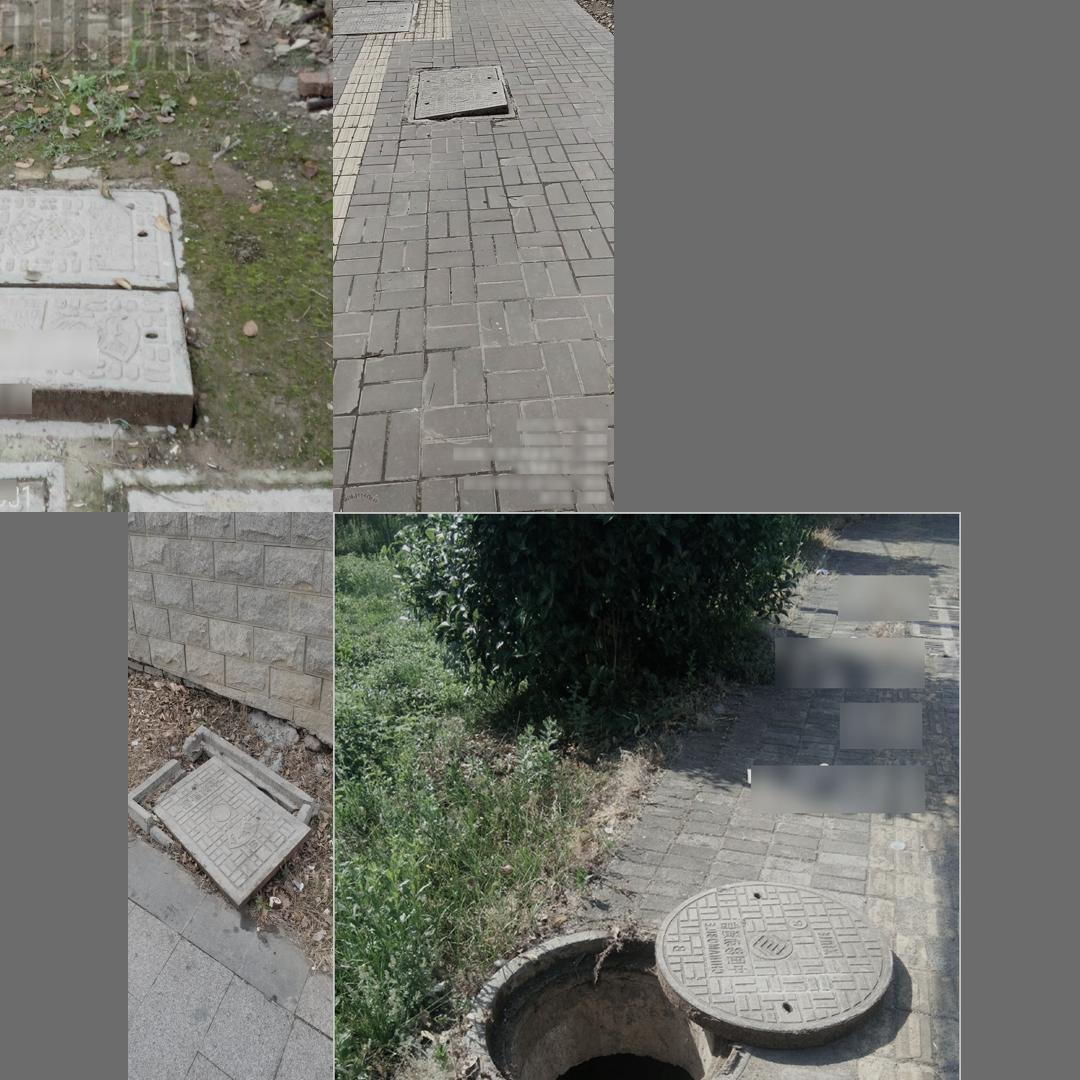good: (333, 0, 419, 35)
uncovered: (471, 881, 893, 1080), (0, 168, 199, 414), (129, 724, 315, 904), (407, 63, 519, 126)
